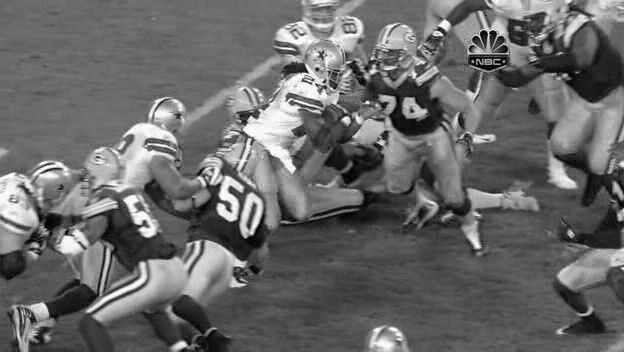person: (308, 42, 342, 86), (307, 42, 341, 86), (309, 42, 343, 86), (308, 41, 342, 85), (308, 43, 342, 87)
target_negative: (111, 115, 560, 218), (134, 221, 541, 323), (260, 175, 353, 261), (269, 276, 607, 298), (515, 203, 579, 291), (514, 9, 545, 153)
